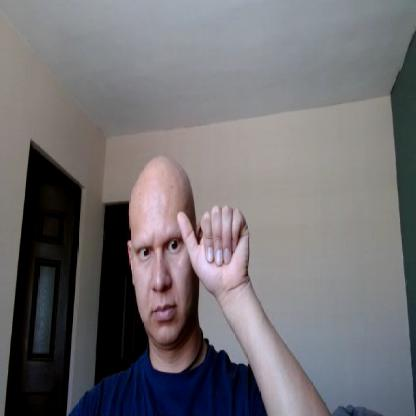A: (176, 203, 249, 294)
